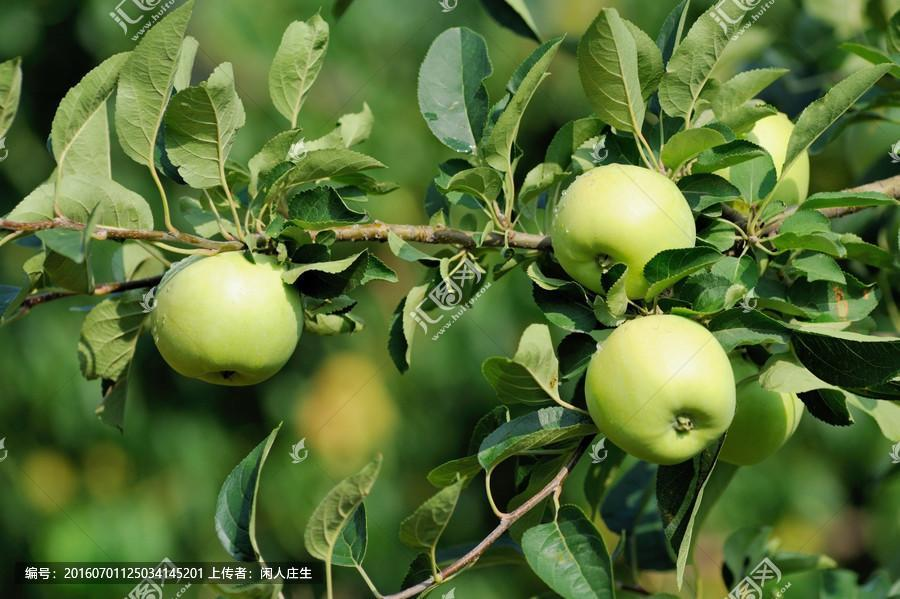apple: (586, 311, 737, 466), (151, 247, 303, 389), (548, 161, 694, 297)
